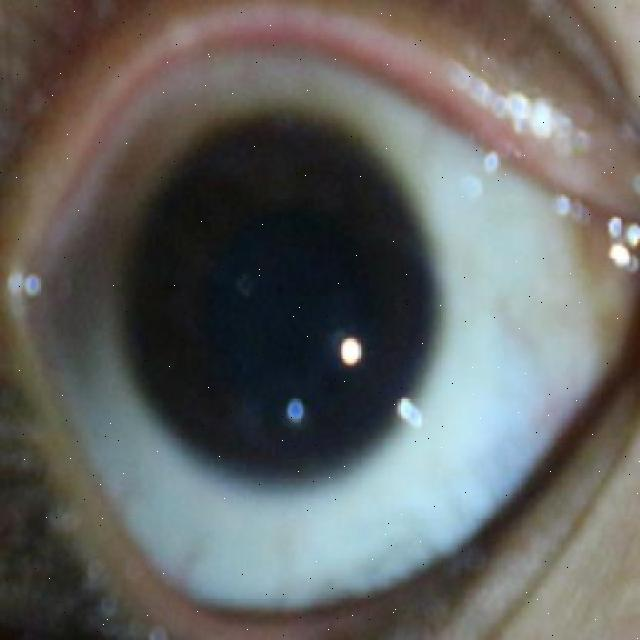Normal: (121, 111, 437, 482)
